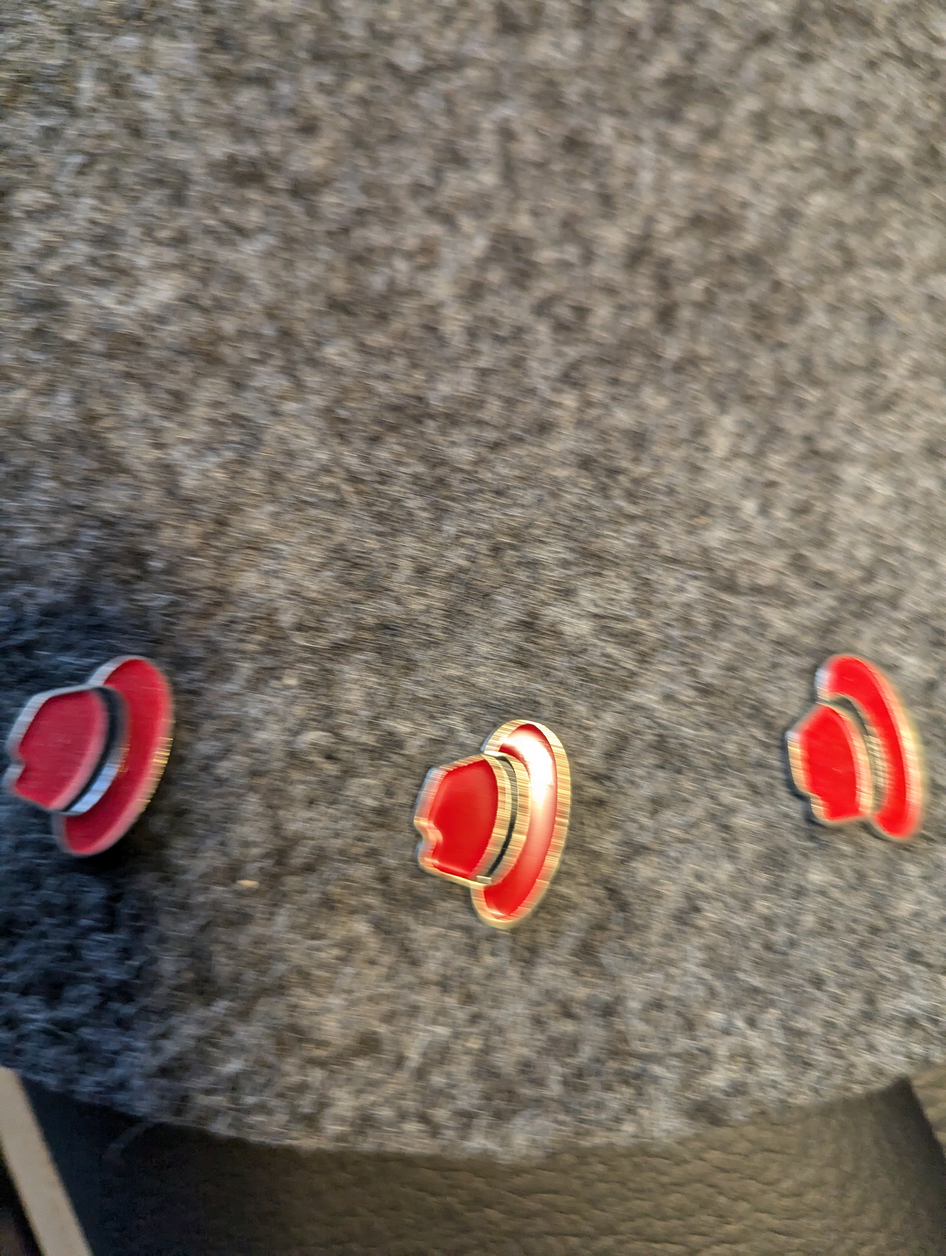Red-Hat: (390, 704, 614, 951), (0, 623, 192, 896), (773, 629, 946, 867)
